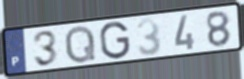3: (136, 16, 163, 57), (31, 29, 59, 67)
4: (174, 14, 196, 51)
8: (205, 9, 233, 48)
G: (98, 20, 132, 61)
Q: (63, 24, 97, 65)
